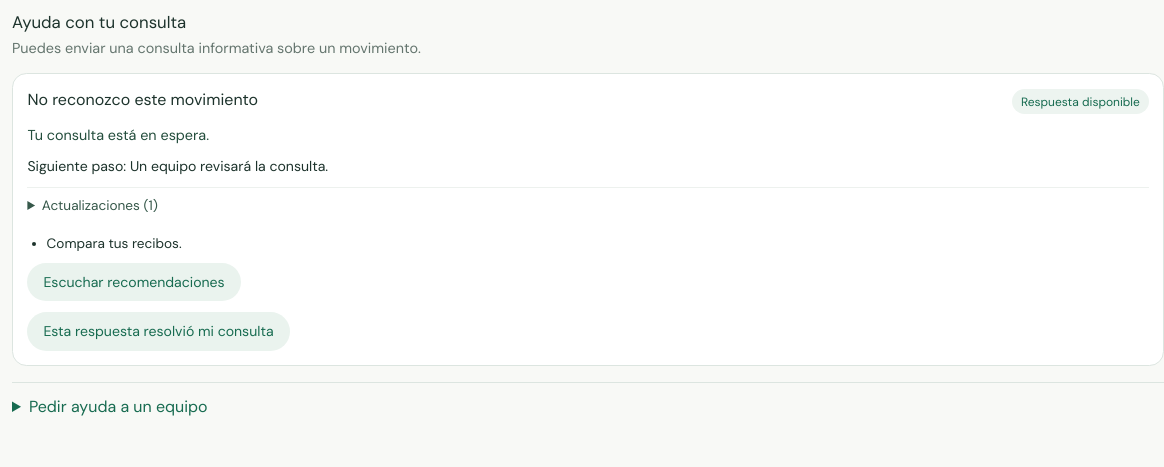
Test: InquiryPanel API boundaries › keeps a rejected Listen request available and reports that the written advice remains
Click the button "Escuchar recomendaciones". click: coordinates (134, 282)
box: [27, 263, 241, 301]
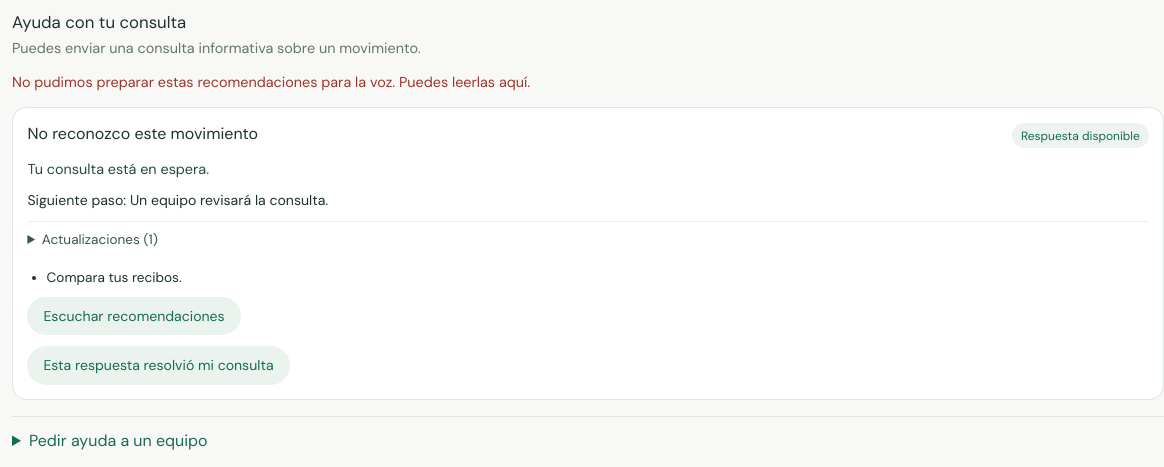
Expected: the button "Escuchar recomendaciones" is enabled, [27, 297, 241, 335]
Result: the message shows "Puedes leerlas aquí." at [12, 73, 530, 91]
